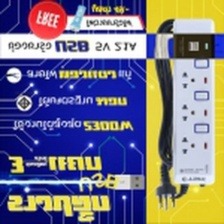three_eye_plug: (166, 15, 219, 190)
